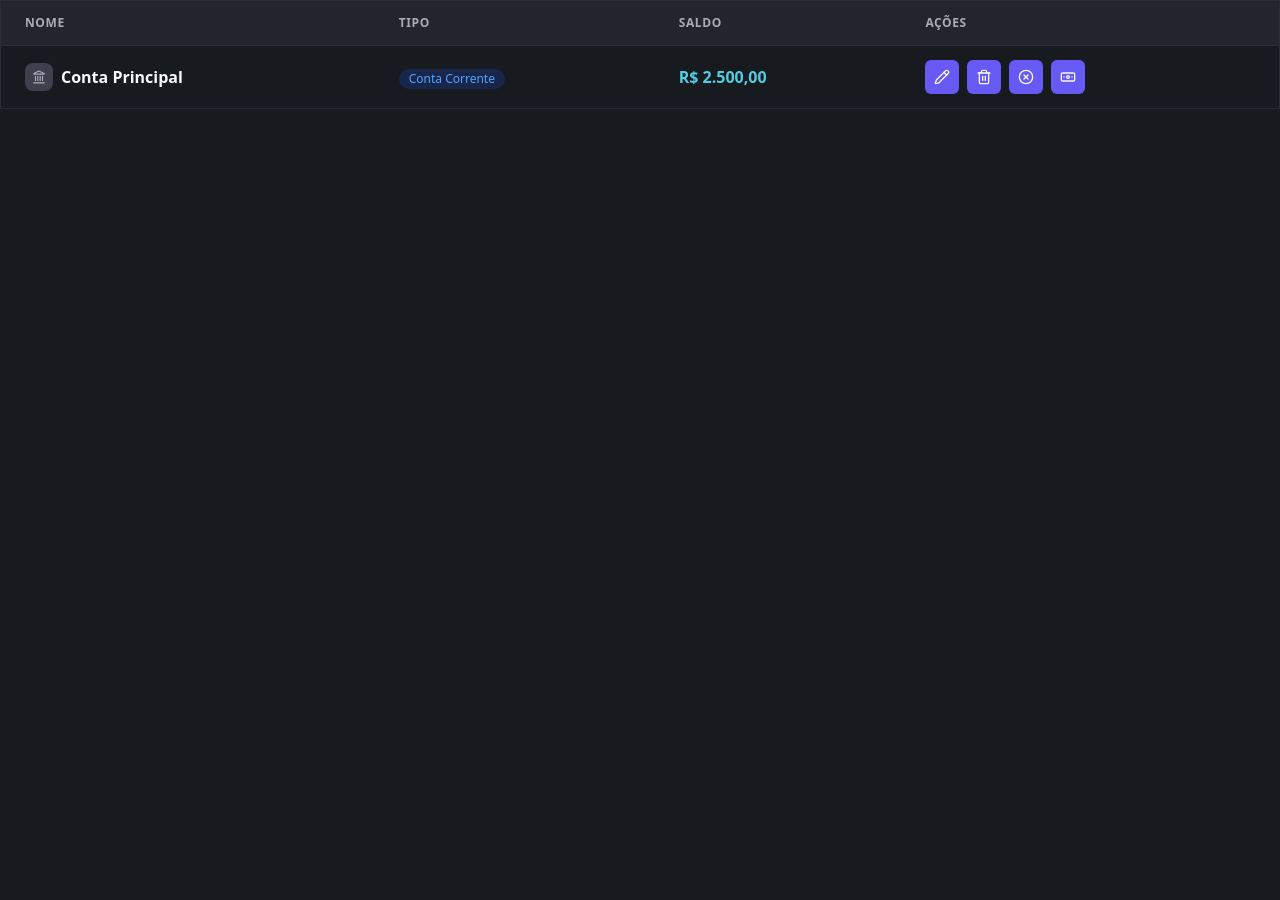
it: TabelaContas › modal de alteração de status › deve abrir modal 'Desativar Conta' para conta ativa
Click the 3rd button.
click(1026, 77)  # box [1009,60,1043,94]
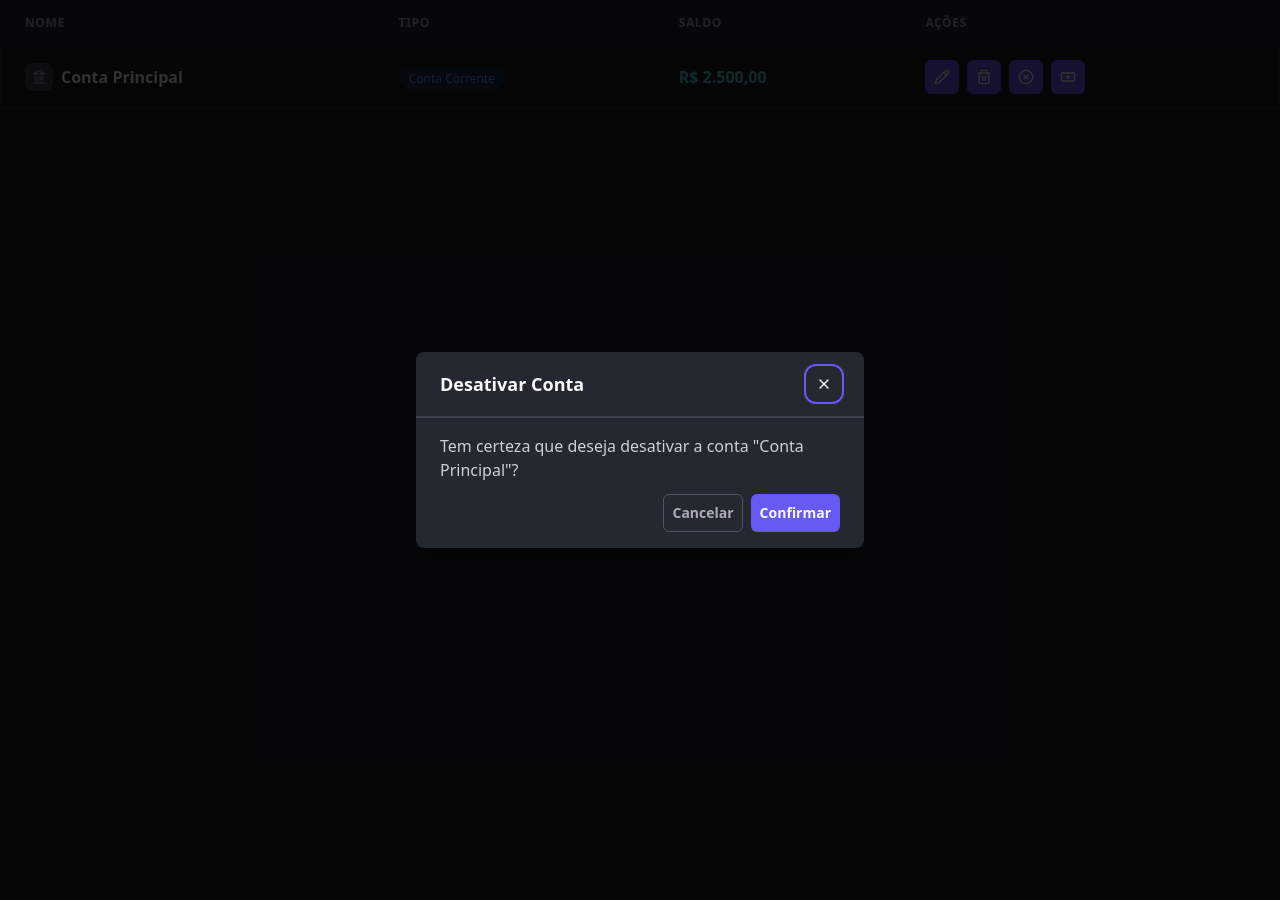
Result: the dialog "Desativar Conta" is shown at [416,352,864,548]
Result: the text "Tem certeza que deseja desativar a conta \"Conta Principal\"?" is shown at [440,434,840,482]
